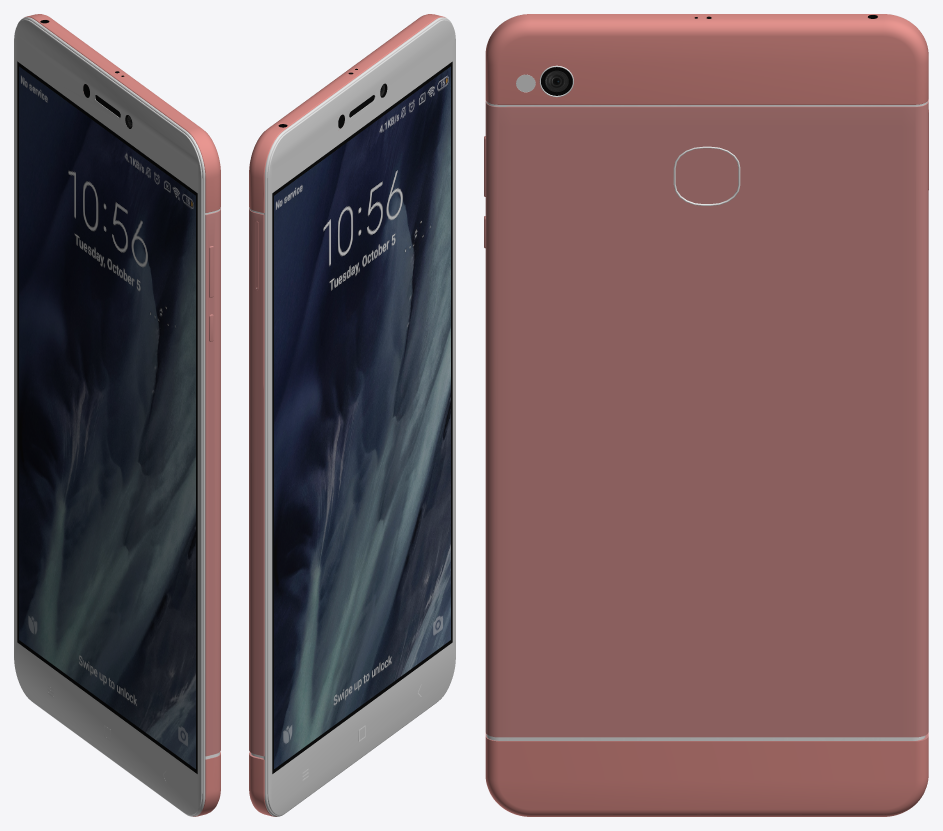
Rendered from CelRosa.glb.
The picture shows the model from 3 angles, left to right: view 1: azimuth 30°, elevation 25°; view 2: azimuth 150°, elevation 25°; view 3: azimuth 270°, elevation 25°; orthographic projection. The views are drawn at different scales.
Parts seen in each view (by area): view 1: Phone; view 2: Phone; view 3: Phone.
Part boxes in pixels (x1,y1,x2,y2): Phone: (14,14,220,816); Phone: (249,14,455,816); Phone: (484,14,928,816).
Size of the model in its own units: 0.0712 by 2 by 1.01.
9 materials, 3 textured.
